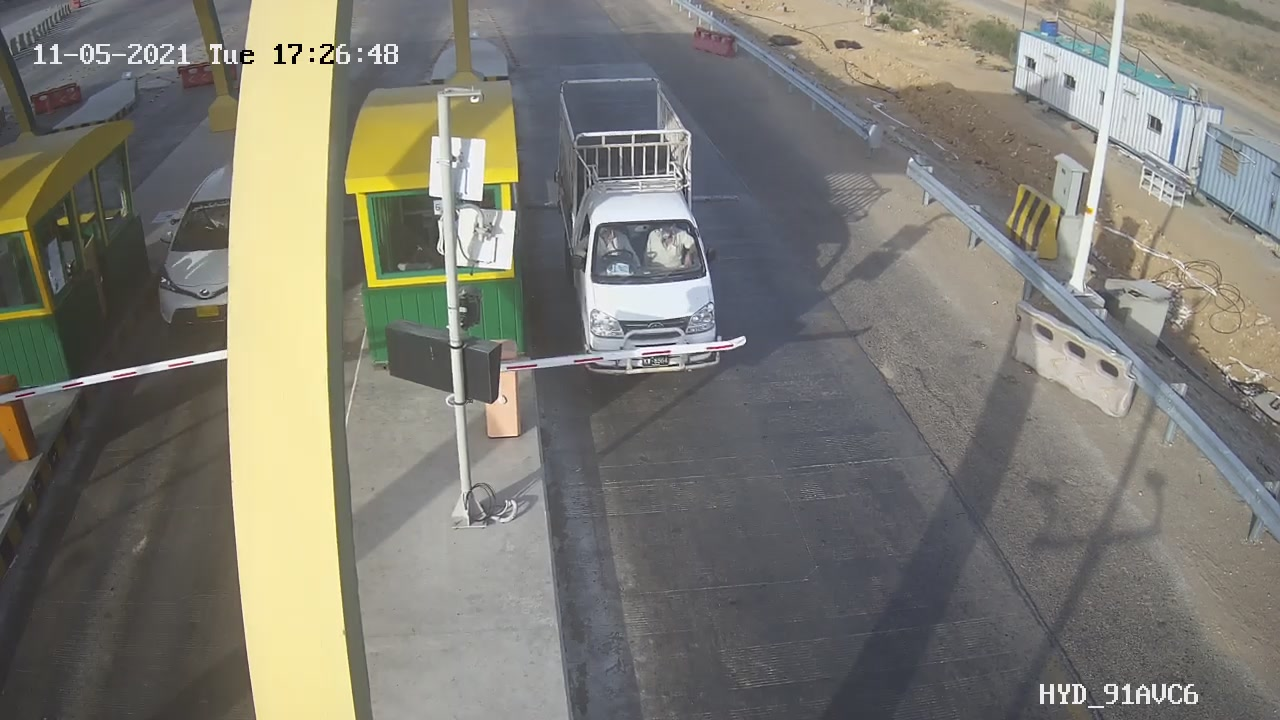F2: (535, 61, 740, 396)
